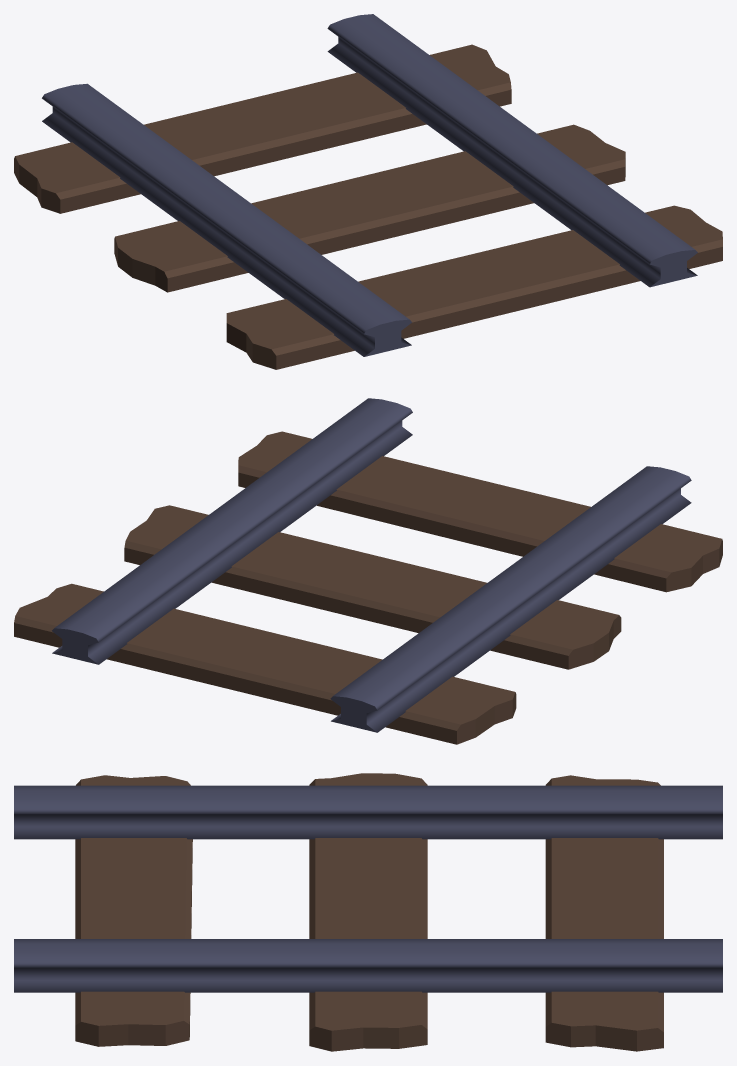
The model's file is MDL_StraightRail.fbx.
3 renders of one model, top to bottom at view 1: azimuth 30°, elevation 25°; view 2: azimuth 150°, elevation 25°; view 3: azimuth 270°, elevation 25°, orthographic. The views are drawn at different scales.
Visible parts, largest first — view 1: StraightRail_WoodBeams, StraightRail_Steel; view 2: StraightRail_WoodBeams, StraightRail_Steel; view 3: StraightRail_Steel, StraightRail_WoodBeams.
Part boxes in pixels (x1,y1,x2,y2): StraightRail_WoodBeams: (14, 44, 722, 369); StraightRail_Steel: (42, 14, 697, 356); StraightRail_WoodBeams: (14, 431, 722, 744); StraightRail_Steel: (52, 398, 691, 732); StraightRail_Steel: (14, 785, 722, 992); StraightRail_WoodBeams: (75, 773, 663, 1051).
Bounding box in the file's own units: 133 × 12.5 × 155.
